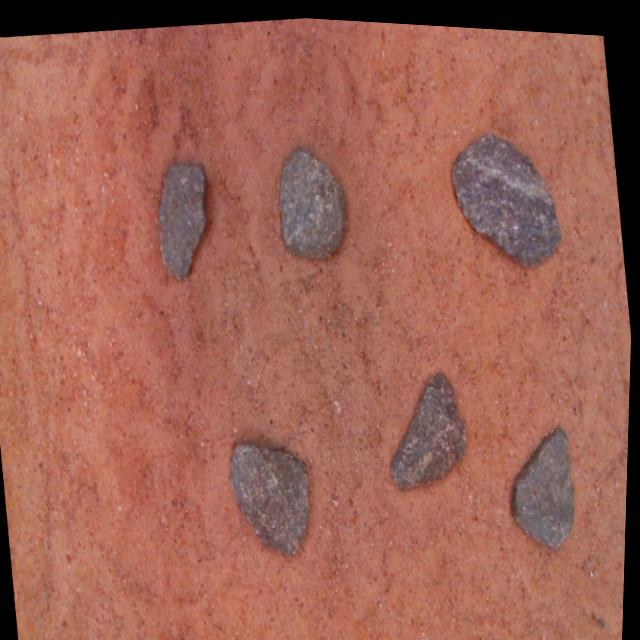rock: (453, 128, 561, 259), (392, 368, 469, 484), (232, 441, 313, 551), (514, 421, 576, 542), (280, 147, 346, 255), (160, 162, 206, 277)
